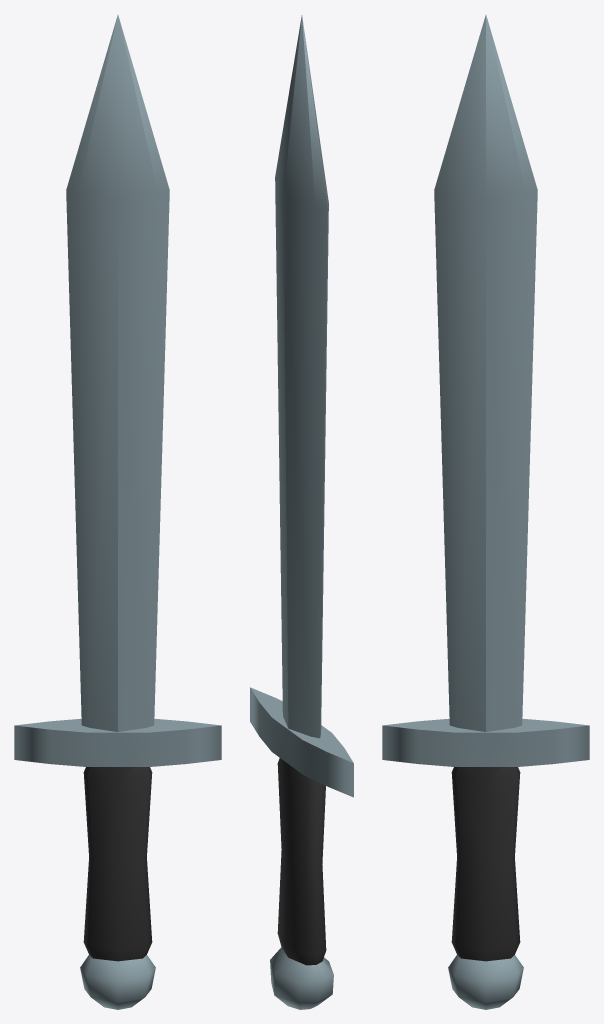
File: runite_shortsword.glb
3 renders of one model, left to right at view 1: azimuth 90°, elevation 25°; view 2: azimuth 210°, elevation 25°; view 3: azimuth 270°, elevation 25°, orthographic.
Visible parts, largest first — view 1: Steel Short Sword; view 2: Steel Short Sword; view 3: Steel Short Sword.
Boxes of the visible parts, x1,y1,x2,y2 form: Steel Short Sword: (14, 15, 221, 1009); Steel Short Sword: (250, 15, 353, 1009); Steel Short Sword: (382, 15, 589, 1009).
Size of the model in its own units: 0.028 by 0.4782 by 0.0909.
